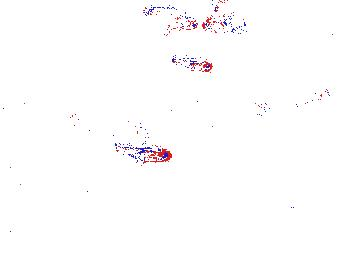X-ray fish: (311, 205, 321, 231)
red belly glassfish: (202, 10, 254, 38), (111, 142, 172, 164), (171, 54, 213, 77)
redtail glassfish: (252, 86, 334, 126), (68, 109, 154, 144), (141, 1, 198, 37)
